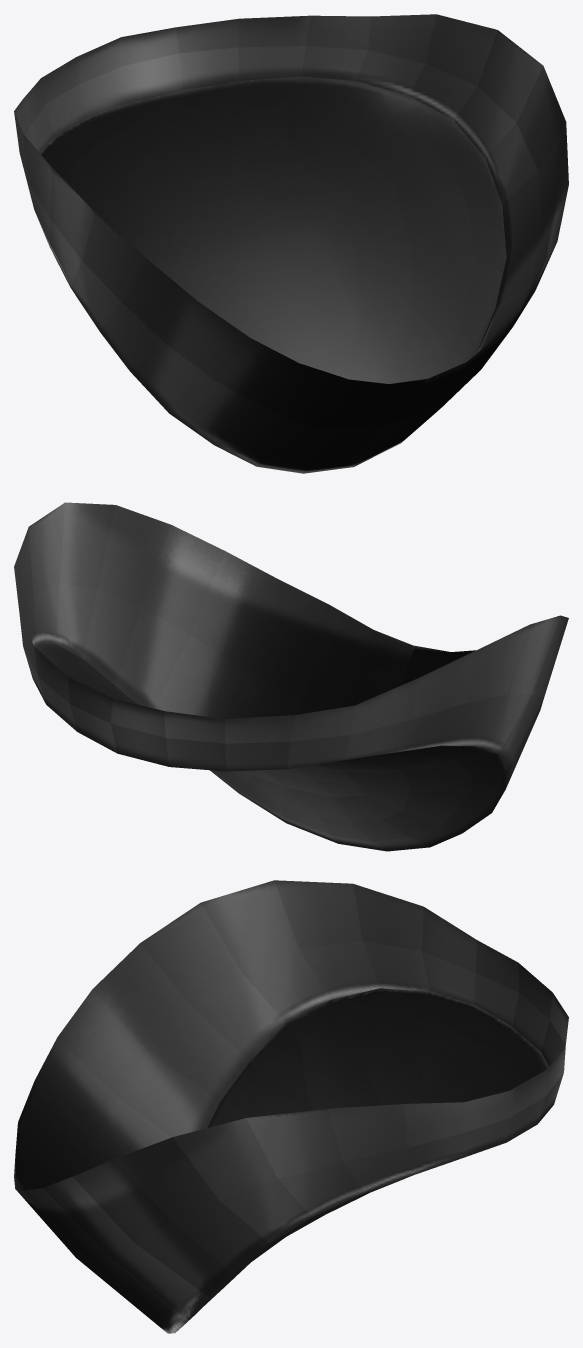
File: pfd_mr_controller_right_trigger.obj
3 views of the same model, one above another, from view 1: azimuth 30°, elevation 25°; view 2: azimuth 150°, elevation 25°; view 3: azimuth 270°, elevation 25° (orthographic).
Visible parts, largest first — view 1: pfd_mr_controller_right_trigger; view 2: pfd_mr_controller_right_trigger; view 3: pfd_mr_controller_right_trigger.
Boxes of the visible parts, x1=… form: pfd_mr_controller_right_trigger: x1=14, y1=14, x2=568, y2=473; pfd_mr_controller_right_trigger: x1=14, y1=502, x2=568, y2=851; pfd_mr_controller_right_trigger: x1=14, y1=880, x2=568, y2=1333.
Size of the model in its own units: 0.0308 by 0.0198 by 0.031.
Materials: 1 (1 with a texture image).
